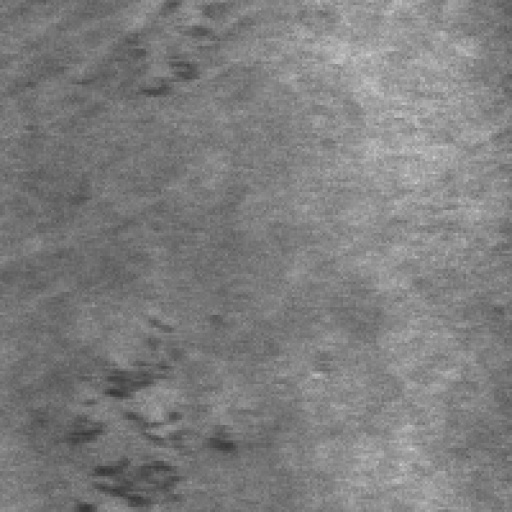rolled_in_scale: (27, 294, 260, 511), (39, 1, 277, 109)
